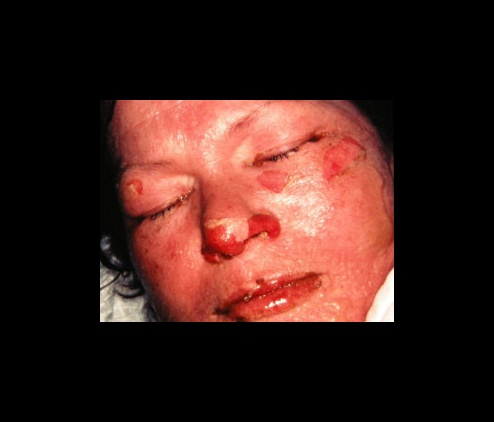SJS-TEN: (187, 197, 292, 279), (293, 120, 383, 208), (201, 269, 326, 327), (232, 139, 296, 205), (123, 173, 151, 207)
